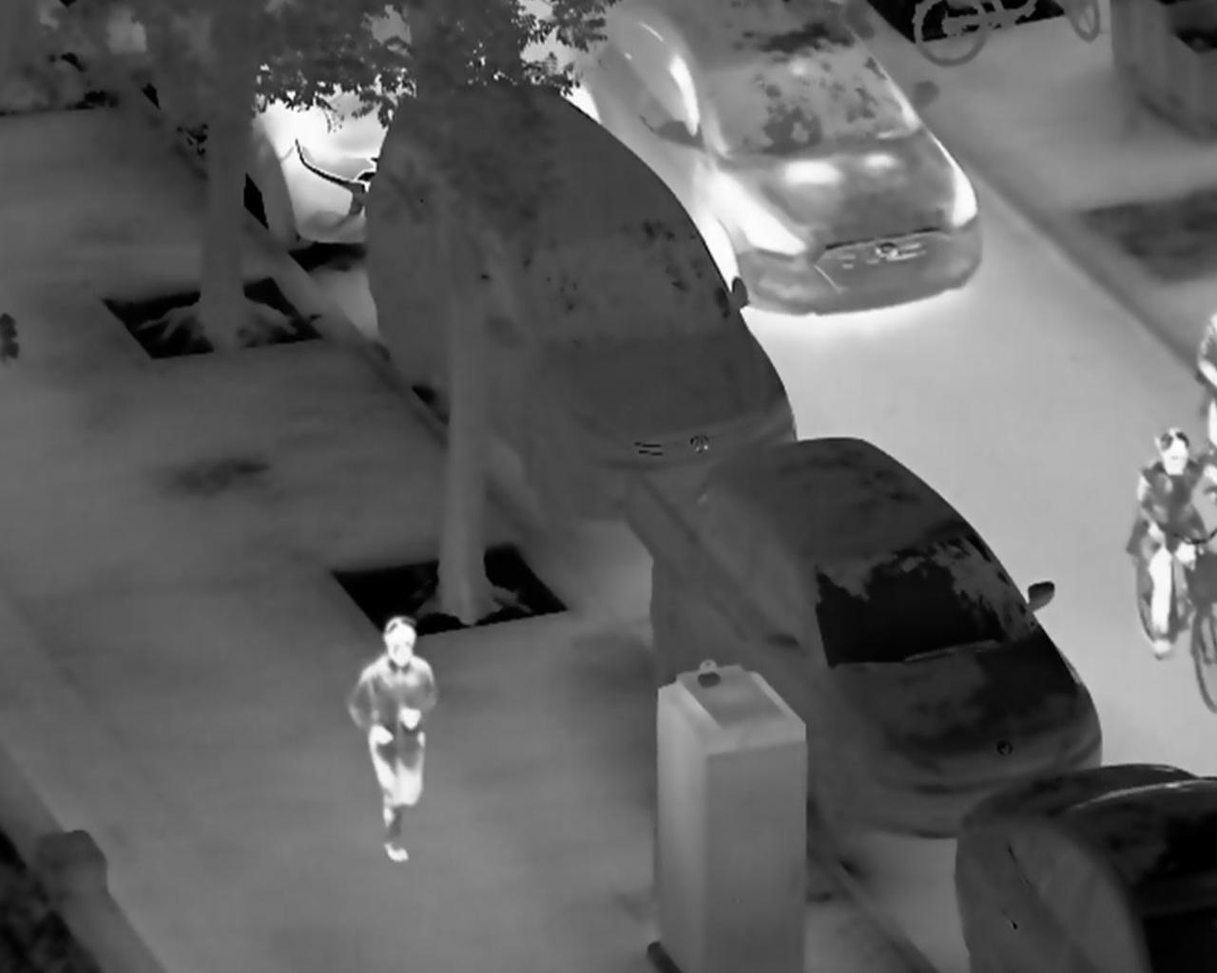person: (349, 614, 437, 867), (1132, 427, 1213, 663)
